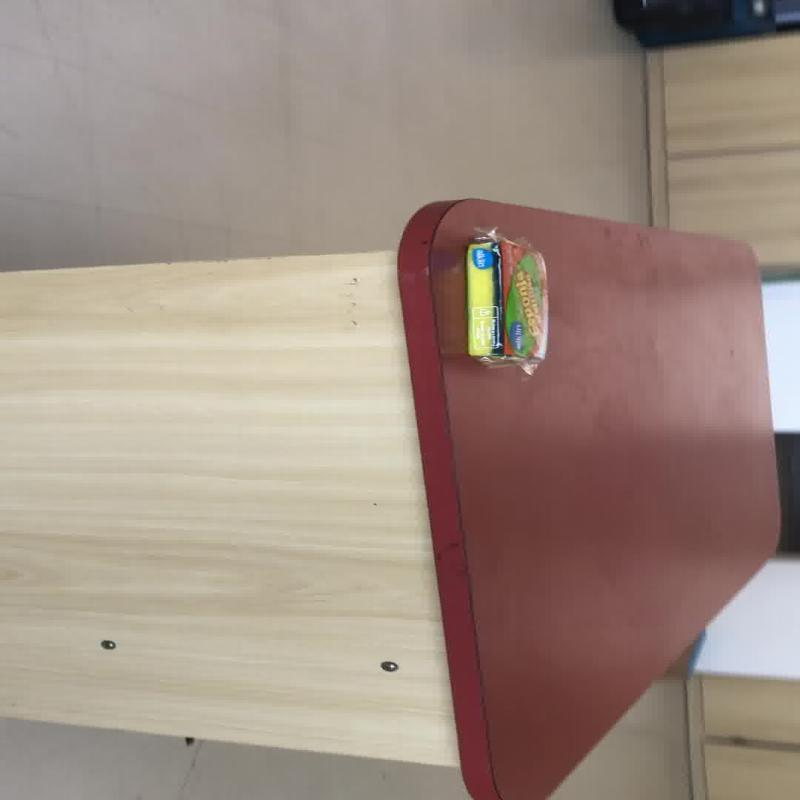sponge: (462, 232, 548, 374)
